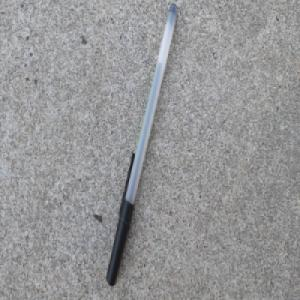Pen: (104, 0, 179, 288)
